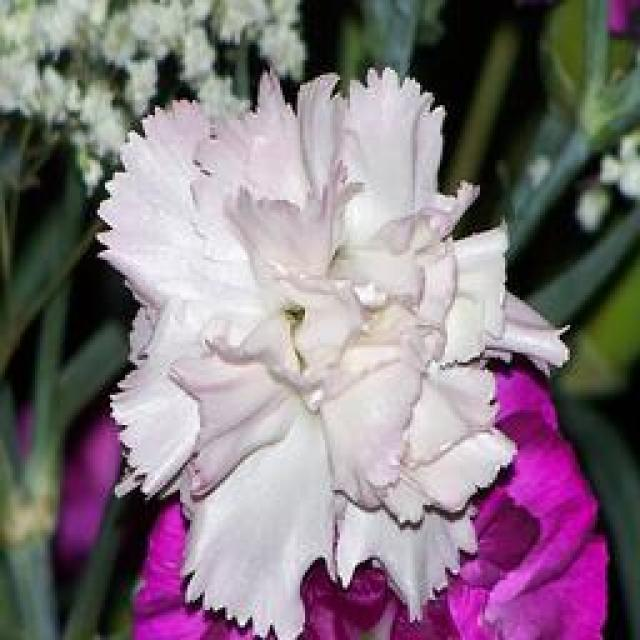carnation: (85, 67, 536, 612)
